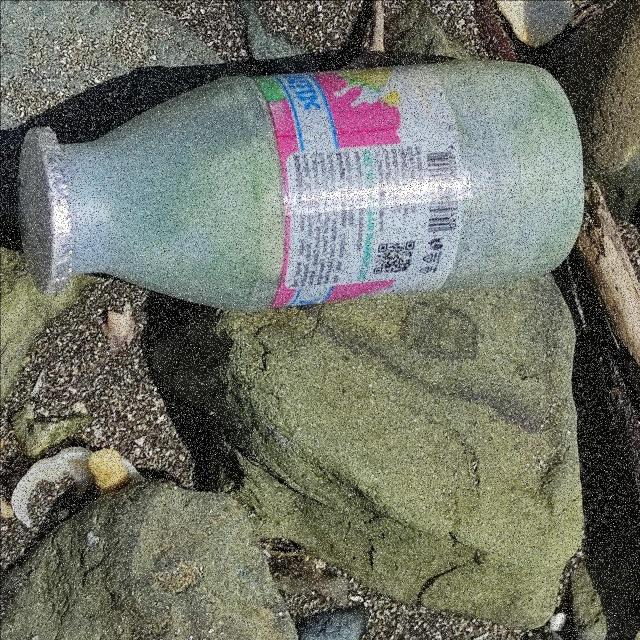plastic_waste: (14, 62, 580, 317)
